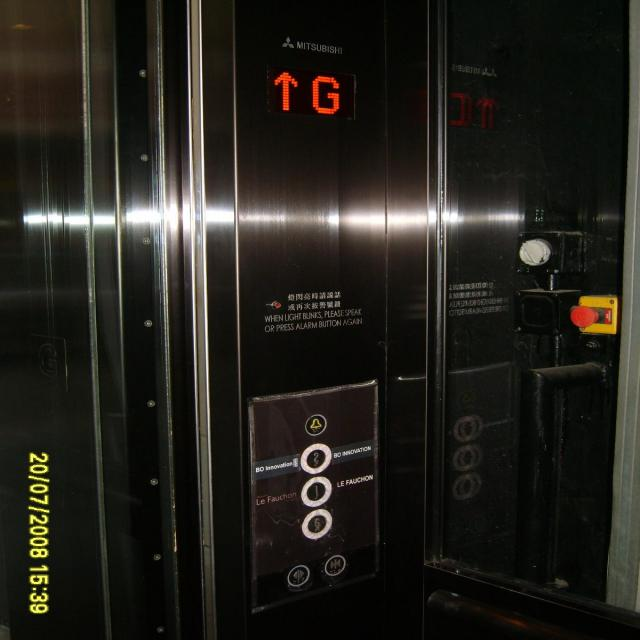1: (300, 476, 332, 506)
2: (298, 443, 332, 474)
G: (300, 508, 333, 540)
alarm: (303, 413, 327, 435)
close: (324, 554, 346, 576)
led: (261, 61, 359, 126), (442, 84, 515, 134)
open: (286, 564, 310, 586)
unknown: (512, 287, 582, 336), (569, 294, 621, 337), (516, 231, 563, 274)
